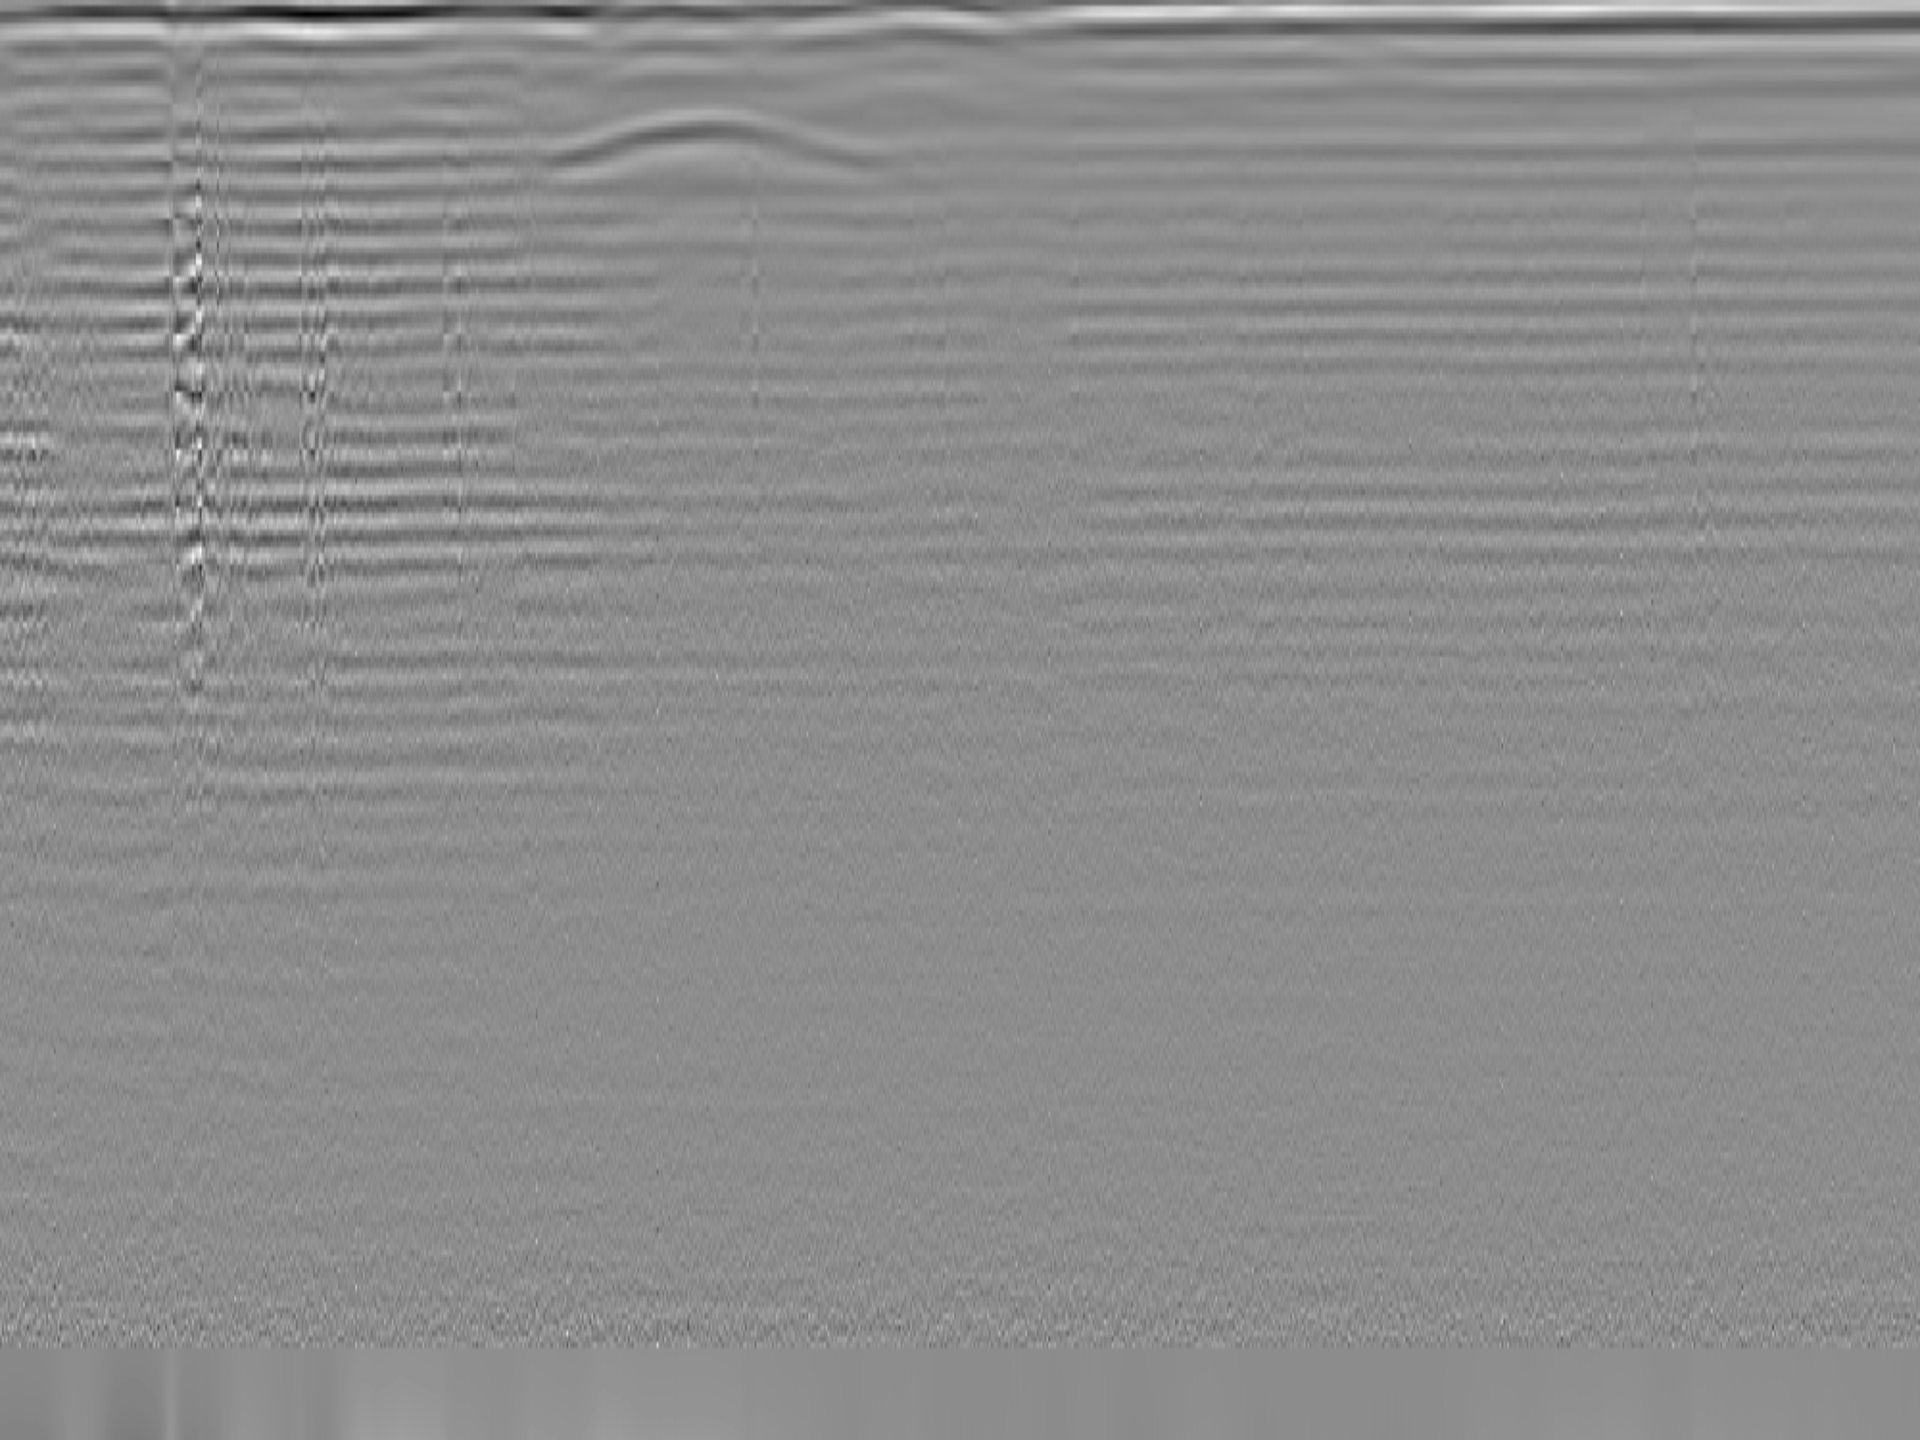Tunnel: (538, 106, 898, 169)
